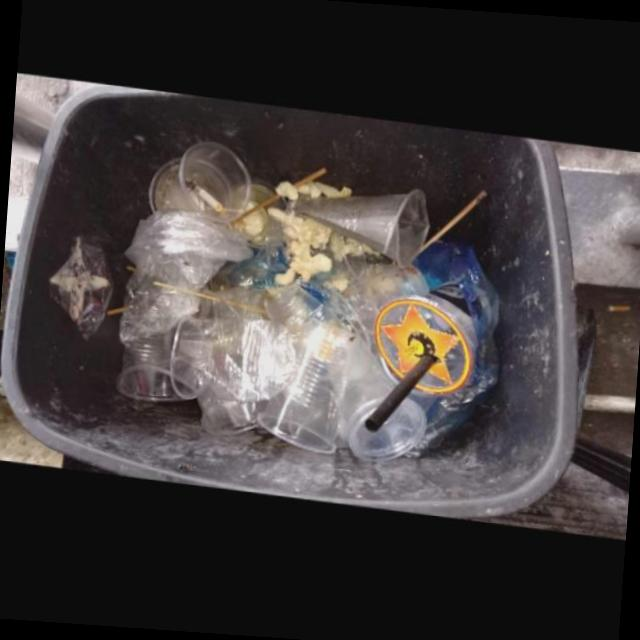hop_nhua: (259, 316, 360, 453), (376, 279, 480, 393), (172, 315, 300, 402), (298, 189, 432, 268), (118, 327, 191, 401)
ong_hut_nhua: (366, 353, 441, 432)
